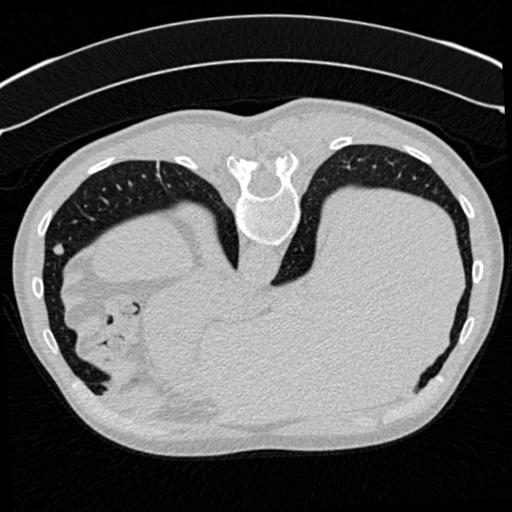nodule: (52, 243, 69, 260)
